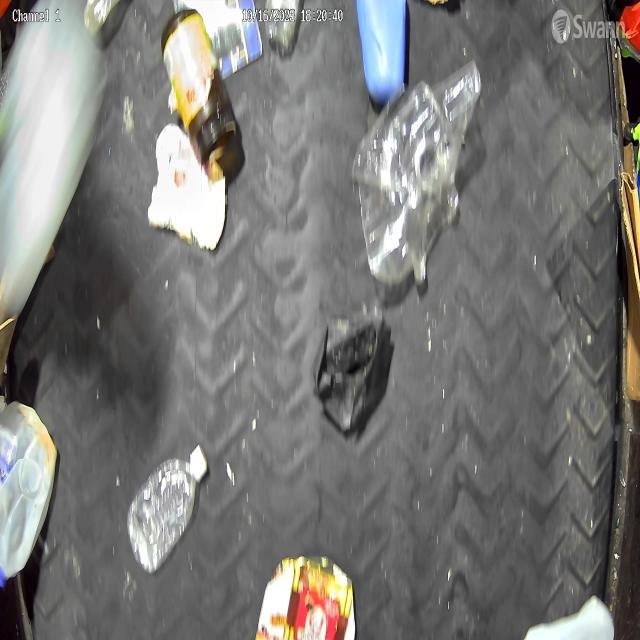milk_jug: (0, 398, 59, 591)
plastic_bottle: (126, 443, 208, 575)
